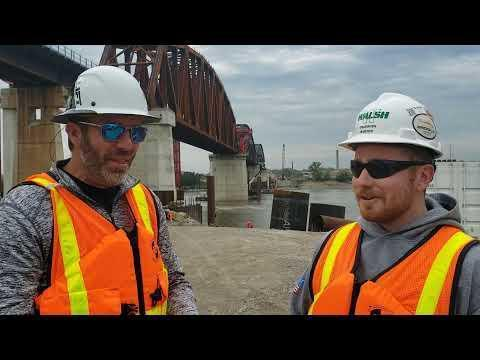helmet: (51, 65, 162, 124), (338, 92, 442, 154)
